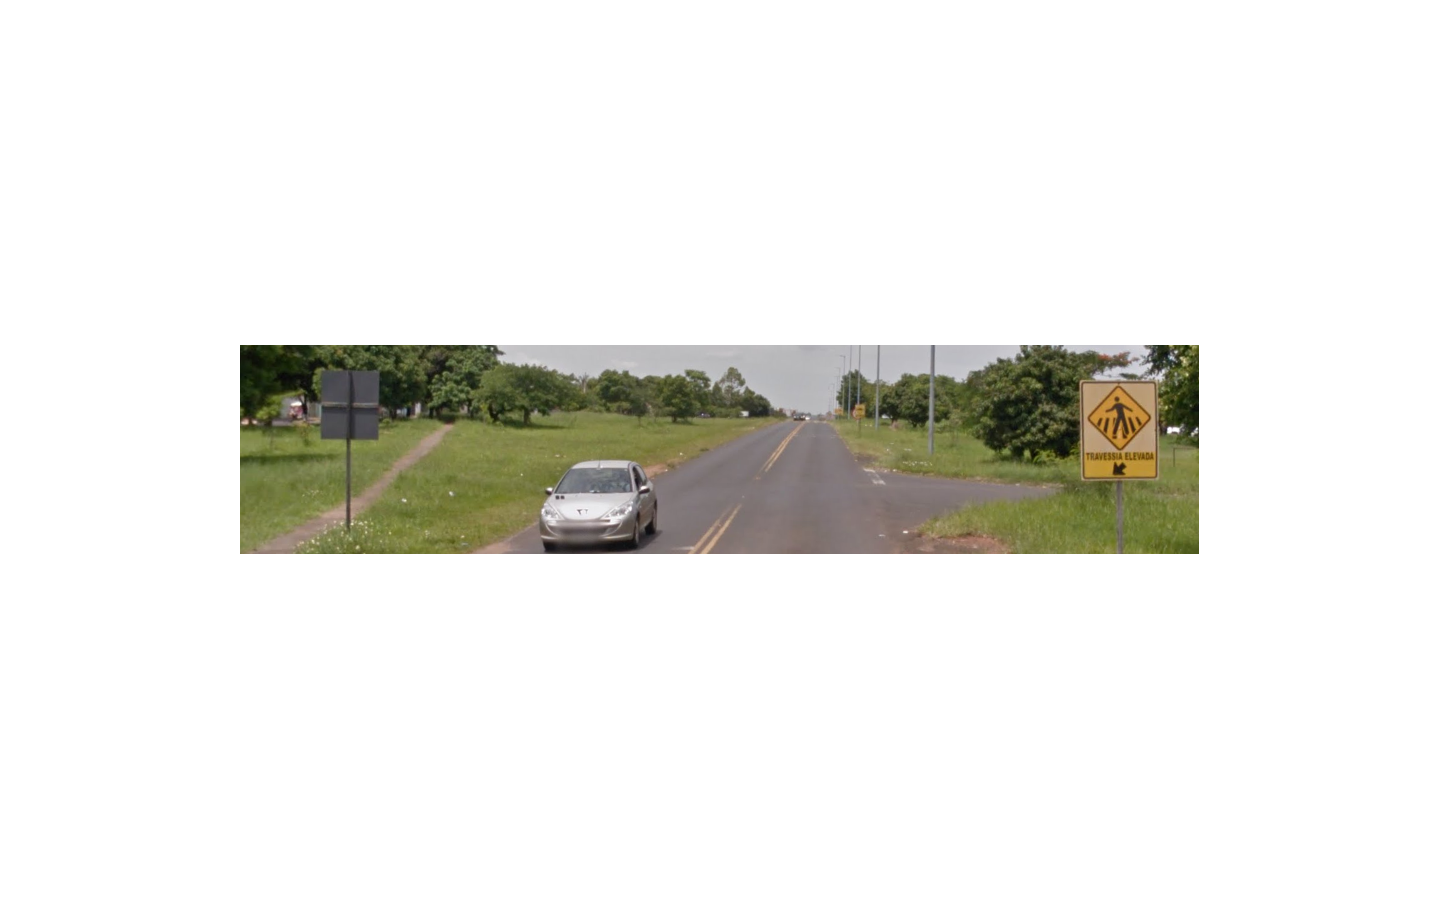telev: (1079, 379, 1159, 481)
